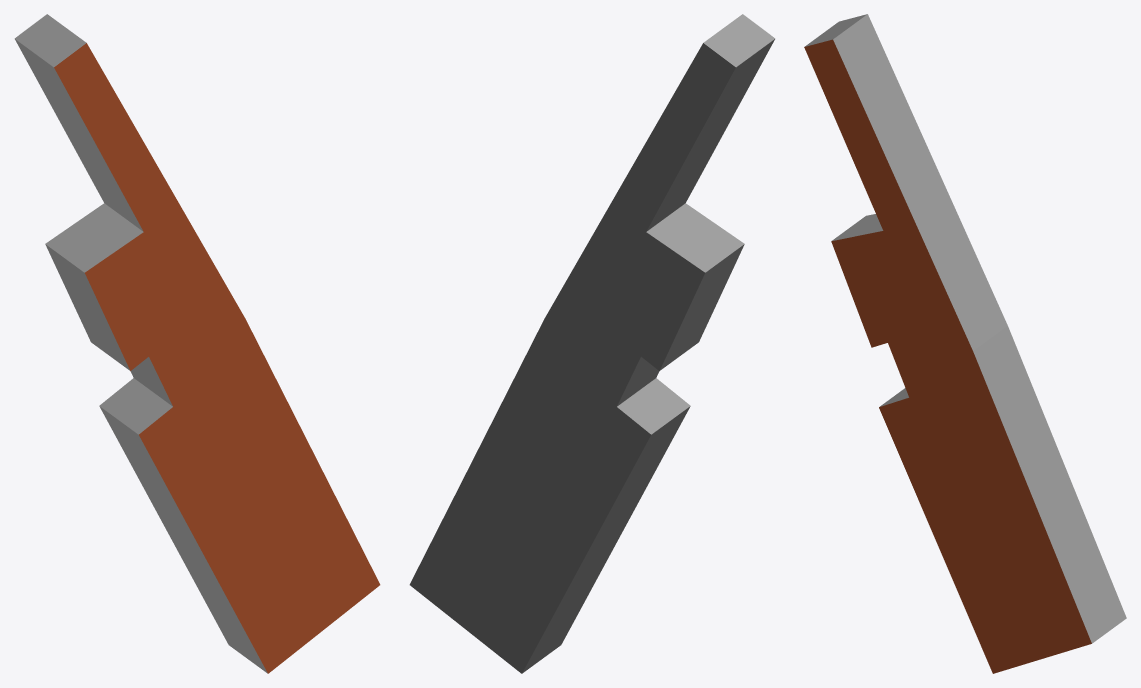
Rendered from construction_5388_assumed_A_Casa_h6m.obj.
3 views of the same model, side by side, from view 1: azimuth 30°, elevation 25°; view 2: azimuth 150°, elevation 25°; view 3: azimuth 330°, elevation 25° (orthographic). The views are drawn at different scales.
Visible parts, largest first — view 1: construction_5388_assumed_A_Casa; view 2: construction_5388_assumed_A_Casa; view 3: construction_5388_assumed_A_Casa.
Part boxes in pixels (x1=…): construction_5388_assumed_A_Casa: x1=14, y1=14, x2=380, y2=673; construction_5388_assumed_A_Casa: x1=409, y1=14, x2=775, y2=673; construction_5388_assumed_A_Casa: x1=804, y1=14, x2=1126, y2=673.
Bounding box in the file's own units: 28.64 × 56.6 × 6.
